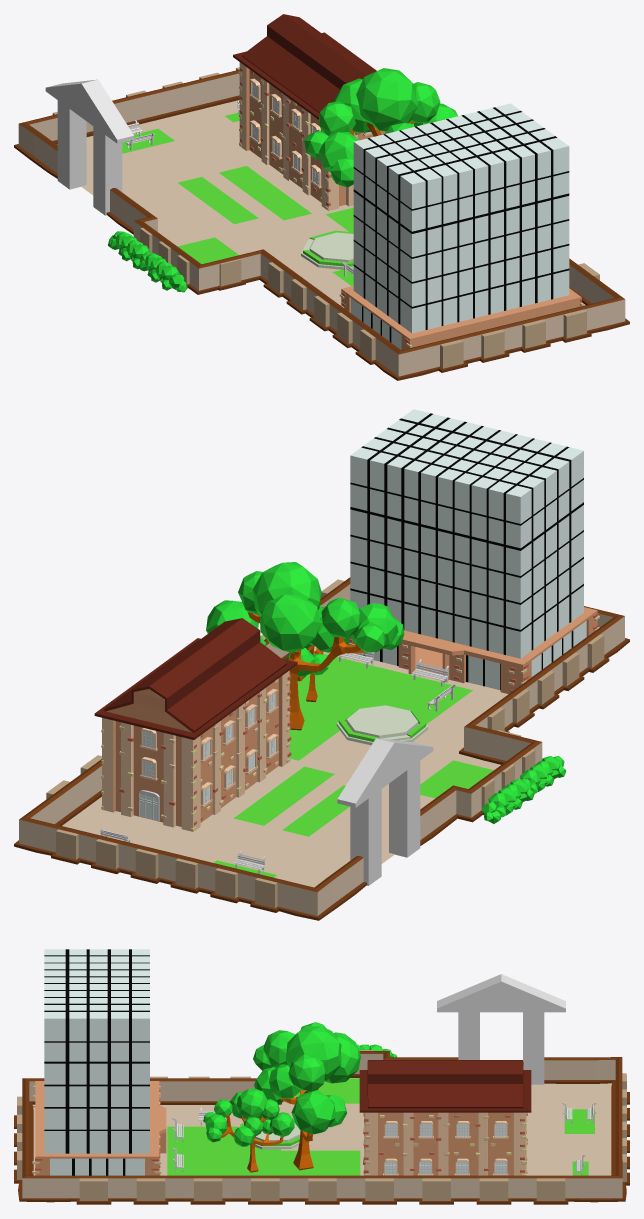
File: fam.fbx
3 renders of one model, top to bottom at view 1: azimuth 30°, elevation 25°; view 2: azimuth 150°, elevation 25°; view 3: azimuth 270°, elevation 25°, orthographic. The views are drawn at different scales.
Visible parts, largest first — view 1: Cube.009, Plane.001, Plane, Cube.018, Folha_5, Cube.002, Cylinder, Folha_5.002, Folha_5.004; view 2: Cube.009, Plane, Cube.018, Plane.001, Folha_5, Cube.002, Cylinder, tronco, Folha_5.004, Folha_5.002; view 3: Cube.009, Plane.001, Cube.018, Plane, Folha_5, Cube.002, Folha_5.001, tronco, Cylinder, tronco.001.
Part boxes in pixels (x1,y1,x2,y2): Cube.009: [339, 103, 583, 350]; Plane.001: [14, 67, 629, 380]; Plane: [57, 100, 585, 305]; Cube.018: [233, 14, 386, 210]; Folha_5: [304, 68, 457, 187]; Cube.002: [45, 79, 134, 215]; Cylinder: [301, 230, 353, 269]; Folha_5.002: [138, 252, 187, 292]; Folha_5.004: [108, 231, 150, 269]; Cube.009: [347, 409, 599, 693]; Plane: [62, 646, 508, 887]; Cube.018: [94, 618, 297, 831]; Plane.001: [14, 577, 629, 920]; Folha_5: [206, 562, 404, 652]; Cube.002: [337, 738, 433, 885]; Cylinder: [336, 703, 428, 745]; tronco: [248, 612, 364, 730]; Folha_5.004: [481, 779, 534, 823]; Folha_5.002: [520, 755, 566, 793]; Cube.009: [32, 949, 166, 1175]; Plane.001: [14, 1050, 629, 1204]; Cube.018: [359, 1060, 531, 1175]; Plane: [32, 1078, 611, 1175]; Folha_5: [253, 1022, 360, 1134]; Cube.002: [437, 974, 565, 1084]; Folha_5.001: [203, 1088, 294, 1146]; tronco: [280, 1089, 318, 1170]; Cylinder: [239, 1117, 300, 1149]; tronco.001: [221, 1114, 283, 1172].
Size of the model in its own units: 14501 by 7829 by 26235.
